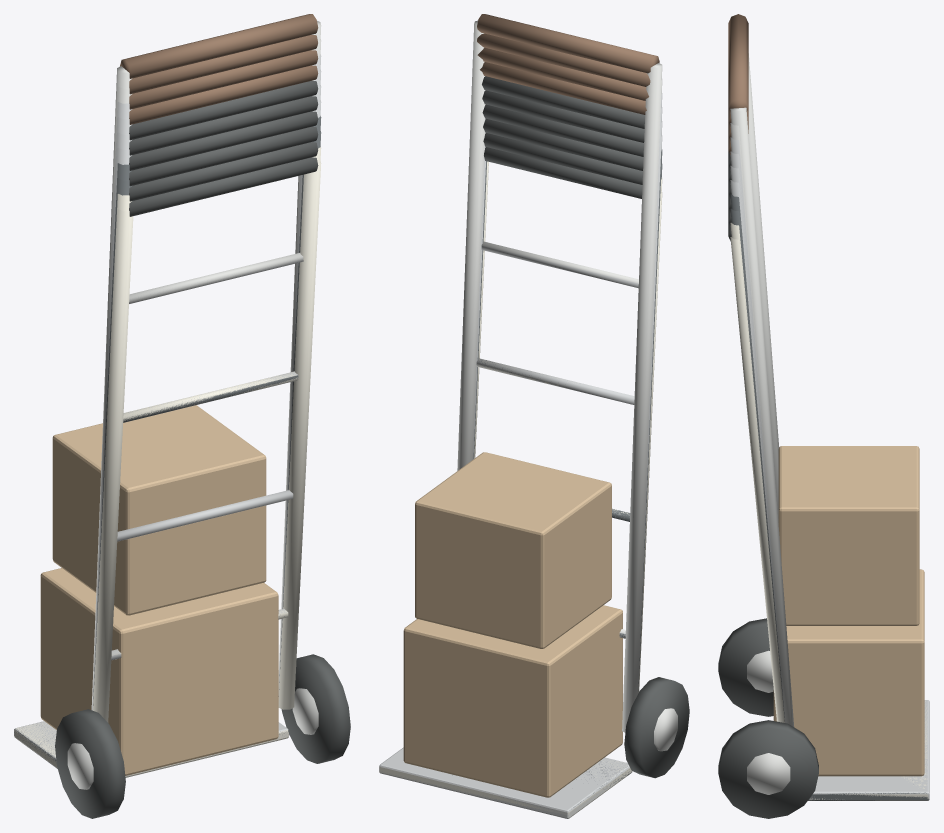
The model's file is Gear02.fbx.
3 renders of one model, left to right at view 1: azimuth 30°, elevation 25°; view 2: azimuth 150°, elevation 25°; view 3: azimuth 270°, elevation 25°, orthographic. The views are drawn at different scales.
Visible parts, largest first — view 1: Gear02_V10_Cork, Gear02_V1_Ivory, Gear02_V1_Tyre, Gear02_V10_Chrome, Gear02_V10_Leather, Gear02_V6_BrushedSteel, Gear02_V4_Rubber, Gear02_V1_Rubber, Gear02_V7_Leather, Gear02_V2_Rubber, Gear02_V3_Rubber, Gear02_V5_Rubber (+11 smaller); view 2: Gear02_V10_Cork, Gear02_V10_Chrome, Gear02_V8_BrushedSteel, Gear02_V1_Tyre, Gear02_V10_Leather, Gear02_V9_Leather, Gear02_V8_Leather, Gear02_V7_Leather, Gear02_V6_Rubber, Gear02_V5_Rubber, Gear02_V4_Rubber, Gear02_V3_Rubber (+11 smaller); view 3: Gear02_V10_Cork, Gear02_V1_Tyre, Gear02_V10_Chrome, Gear02_V1_Ivory, Gear02_V8_BrushedSteel, Gear02_V9_Chrome, Gear02_V10_Leather, Gear02_V4_Charcoal, Gear02_V5_BrushedSteel, Gear02_V2_Ivory, Gear02_V7_BrushedSteel, Gear02_V1_Chrome (+2 smaller).
Part boxes in pixels (left/top/right/bottom): Gear02_V10_Cork: left=40, top=405, right=278, bottom=775; Gear02_V1_Ivory: left=14, top=162, right=321, bottom=777; Gear02_V1_Tyre: left=55, top=654, right=350, bottom=818; Gear02_V10_Chrome: left=17, top=21, right=321, bottom=788; Gear02_V10_Leather: left=120, top=14, right=318, bottom=78; Gear02_V6_BrushedSteel: left=18, top=85, right=321, bottom=752; Gear02_V4_Rubber: left=129, top=111, right=318, bottom=170; Gear02_V1_Rubber: left=129, top=157, right=318, bottom=216; Gear02_V7_Leather: left=129, top=65, right=318, bottom=124; Gear02_V2_Rubber: left=129, top=142, right=318, bottom=201; Gear02_V3_Rubber: left=129, top=126, right=318, bottom=186; Gear02_V5_Rubber: left=129, top=96, right=318, bottom=155; Gear02_V10_Cork: left=403, top=452, right=622, bottom=797; Gear02_V10_Chrome: left=389, top=20, right=675, bottom=818; Gear02_V8_BrushedSteel: left=379, top=93, right=662, bottom=817; Gear02_V1_Tyre: left=624, top=677, right=689, bottom=778; Gear02_V10_Leather: left=477, top=14, right=659, bottom=73; Gear02_V9_Leather: left=477, top=33, right=650, bottom=86; Gear02_V8_Leather: left=477, top=47, right=648, bottom=100; Gear02_V7_Leather: left=480, top=62, right=646, bottom=114; Gear02_V6_Rubber: left=482, top=76, right=644, bottom=128; Gear02_V5_Rubber: left=482, top=90, right=644, bottom=142; Gear02_V4_Rubber: left=482, top=104, right=643, bottom=156; Gear02_V3_Rubber: left=483, top=118, right=643, bottom=170; Gear02_V10_Cork: left=773, top=446, right=924, bottom=776; Gear02_V1_Tyre: left=718, top=618, right=818, bottom=818; Gear02_V10_Chrome: left=730, top=53, right=929, bottom=797; Gear02_V1_Ivory: left=730, top=237, right=927, bottom=800; Gear02_V8_BrushedSteel: left=730, top=137, right=929, bottom=798; Gear02_V9_Chrome: left=730, top=123, right=790, bottom=794; Gear02_V10_Leather: left=728, top=14, right=748, bottom=112; Gear02_V4_Charcoal: left=730, top=194, right=928, bottom=800; Gear02_V5_BrushedSteel: left=730, top=180, right=928, bottom=800; Gear02_V2_Ivory: left=730, top=222, right=928, bottom=800; Gear02_V7_BrushedSteel: left=730, top=151, right=929, bottom=800; Gear02_V1_Chrome: left=747, top=652, right=790, bottom=788.
Bounding box in the file's own units: 52.8 × 155 × 42.
